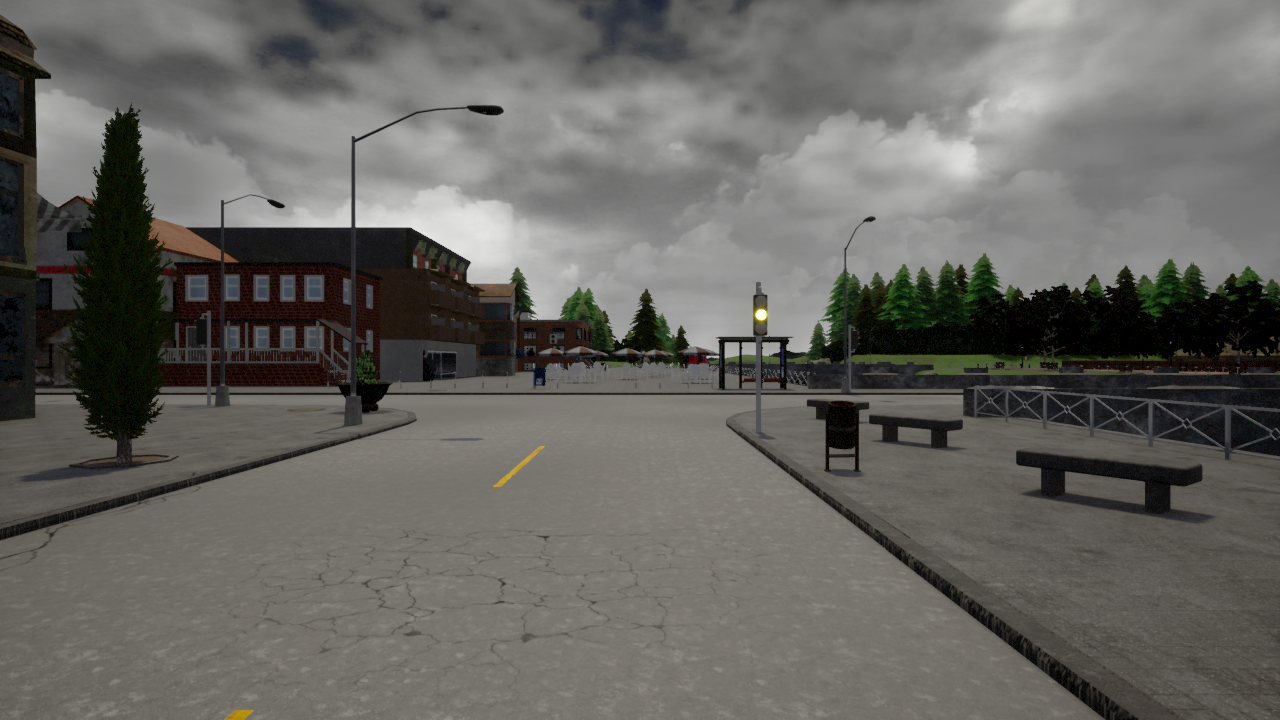yellow: (750, 294, 771, 341)
